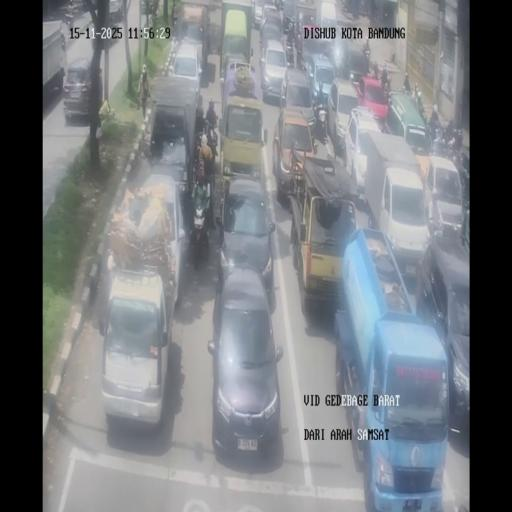car: (98, 268, 174, 432), (131, 174, 188, 311), (216, 177, 276, 304), (328, 78, 364, 155), (63, 55, 99, 124), (170, 41, 204, 102), (258, 41, 290, 103), (302, 52, 336, 106), (260, 6, 284, 41), (299, 10, 316, 45), (107, 0, 123, 22), (252, 0, 264, 28), (140, 0, 156, 17)
motorcycle: (188, 204, 208, 270), (451, 143, 469, 198), (205, 169, 217, 230), (312, 98, 328, 140), (445, 124, 463, 154), (206, 122, 219, 162), (430, 125, 446, 155), (410, 85, 424, 116), (194, 124, 206, 157), (284, 33, 295, 67), (294, 25, 304, 58), (368, 1, 379, 22), (64, 6, 74, 28), (362, 41, 370, 68), (382, 82, 391, 105), (380, 64, 389, 87), (370, 59, 380, 77), (398, 84, 408, 95)
truck: (336, 234, 448, 508), (290, 153, 359, 319), (359, 131, 429, 274), (146, 80, 201, 203), (217, 94, 266, 196), (219, 0, 254, 83), (41, 21, 66, 105), (314, 0, 340, 60), (280, 0, 298, 33)
